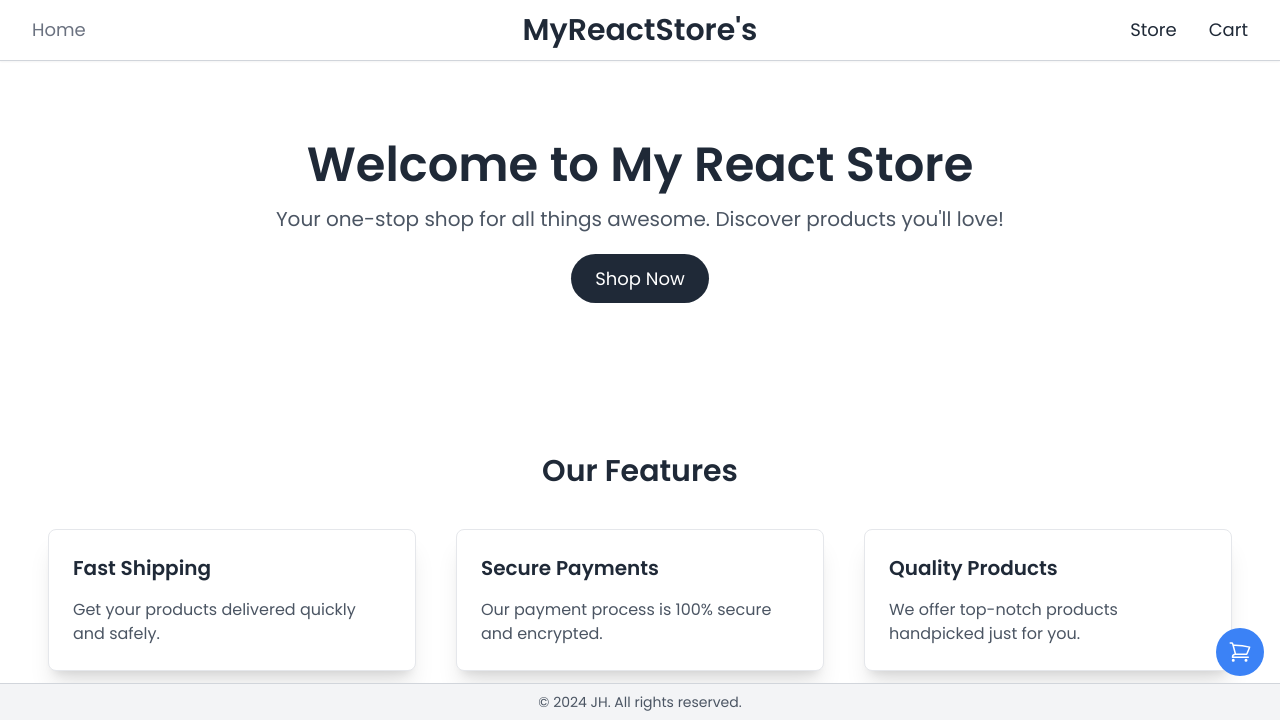
Test: App Component › renders Store page when clicking on the Store link
What coordinates should you click on to do the following:
click the link with test id "store-link"
I would click on:
 (1153, 30)
Its box is [1130,17,1177,42].
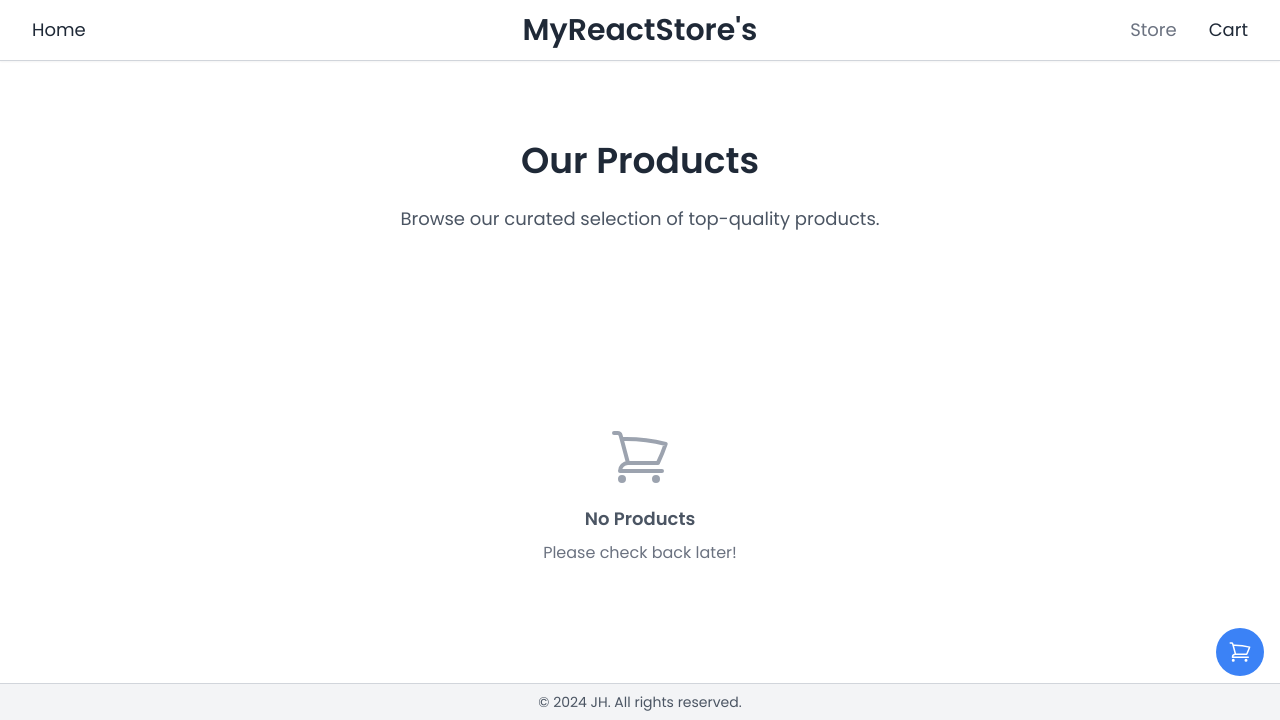
Result: the element with test id "products-container" is shown at [400,135,880,564]
